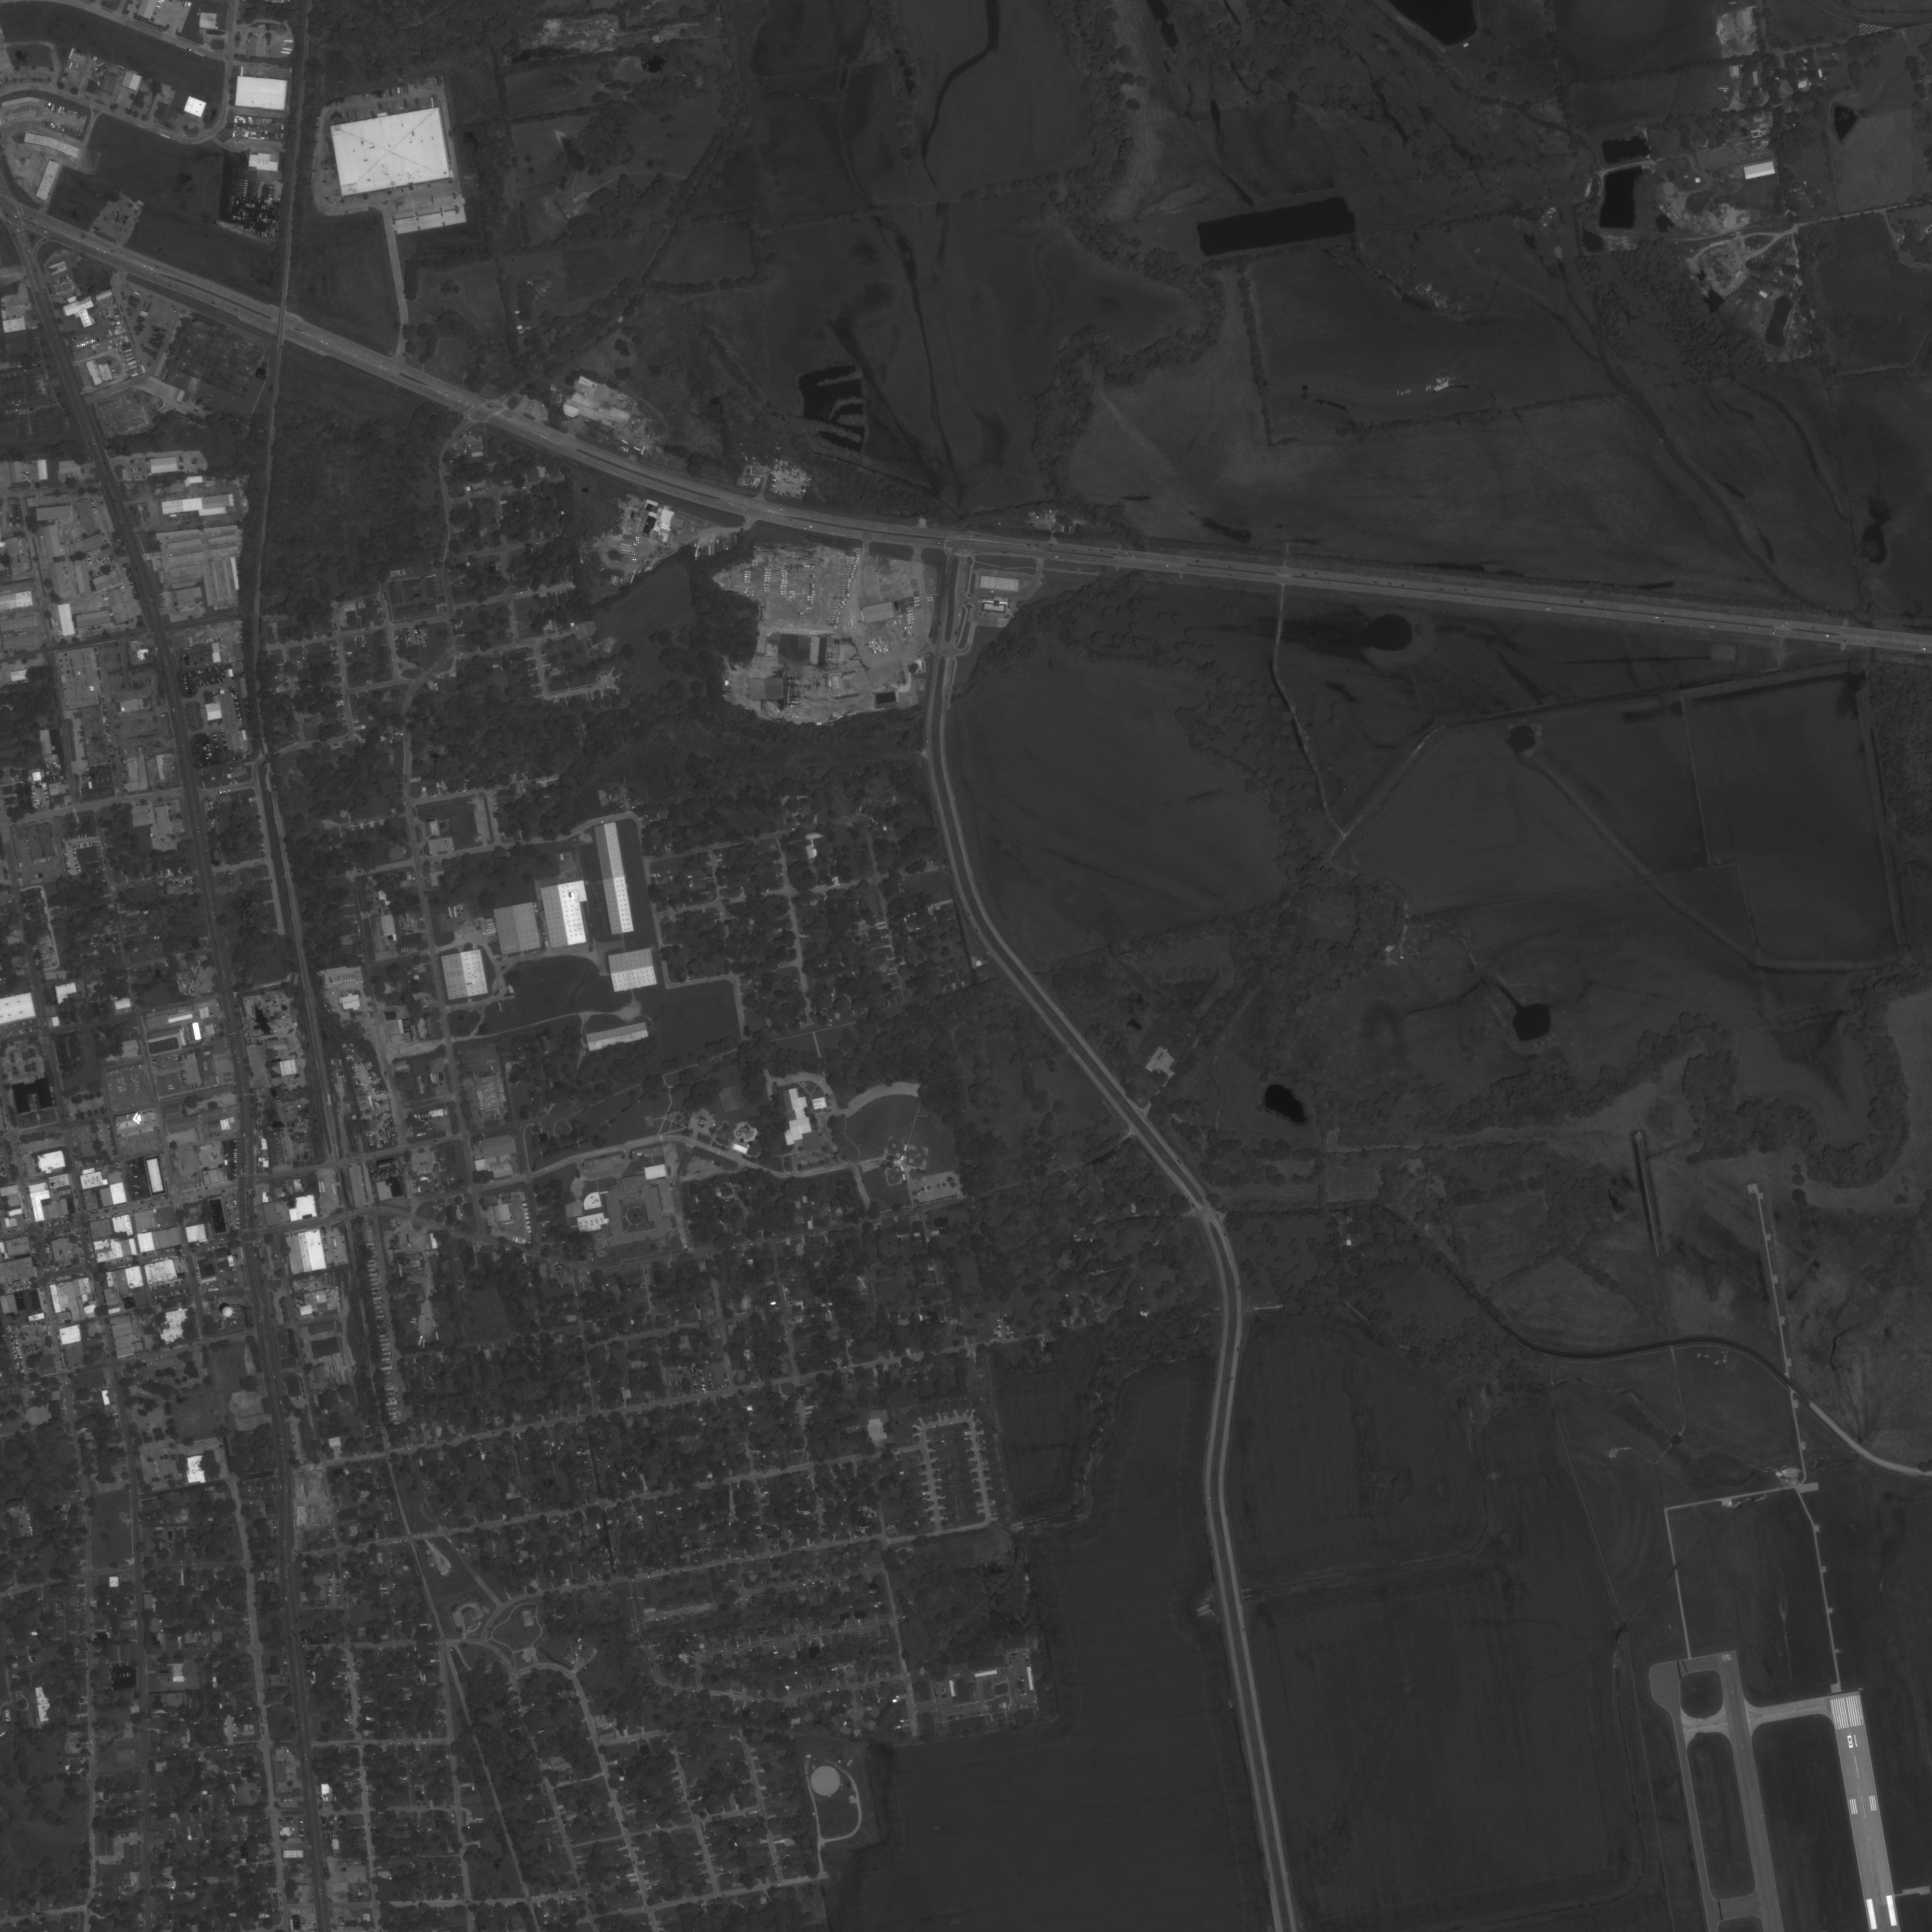baseball diamond: (906, 1138, 932, 1169), (879, 1131, 908, 1159), (881, 1166, 906, 1191)
